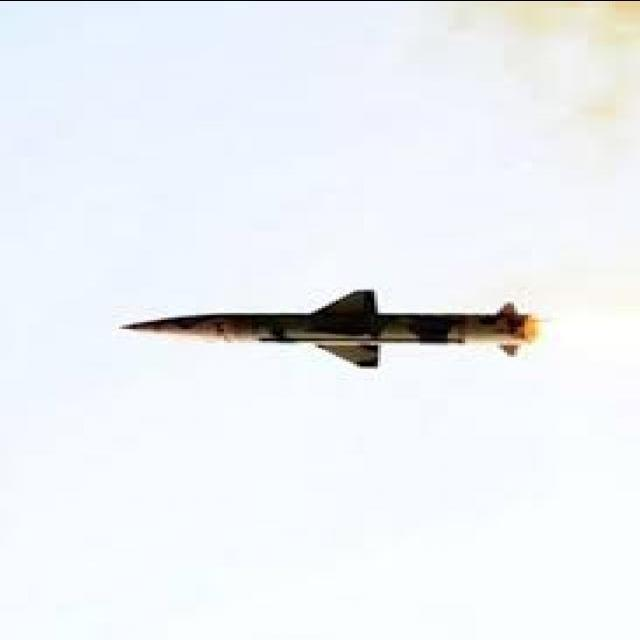Missile: (110, 288, 547, 371)
